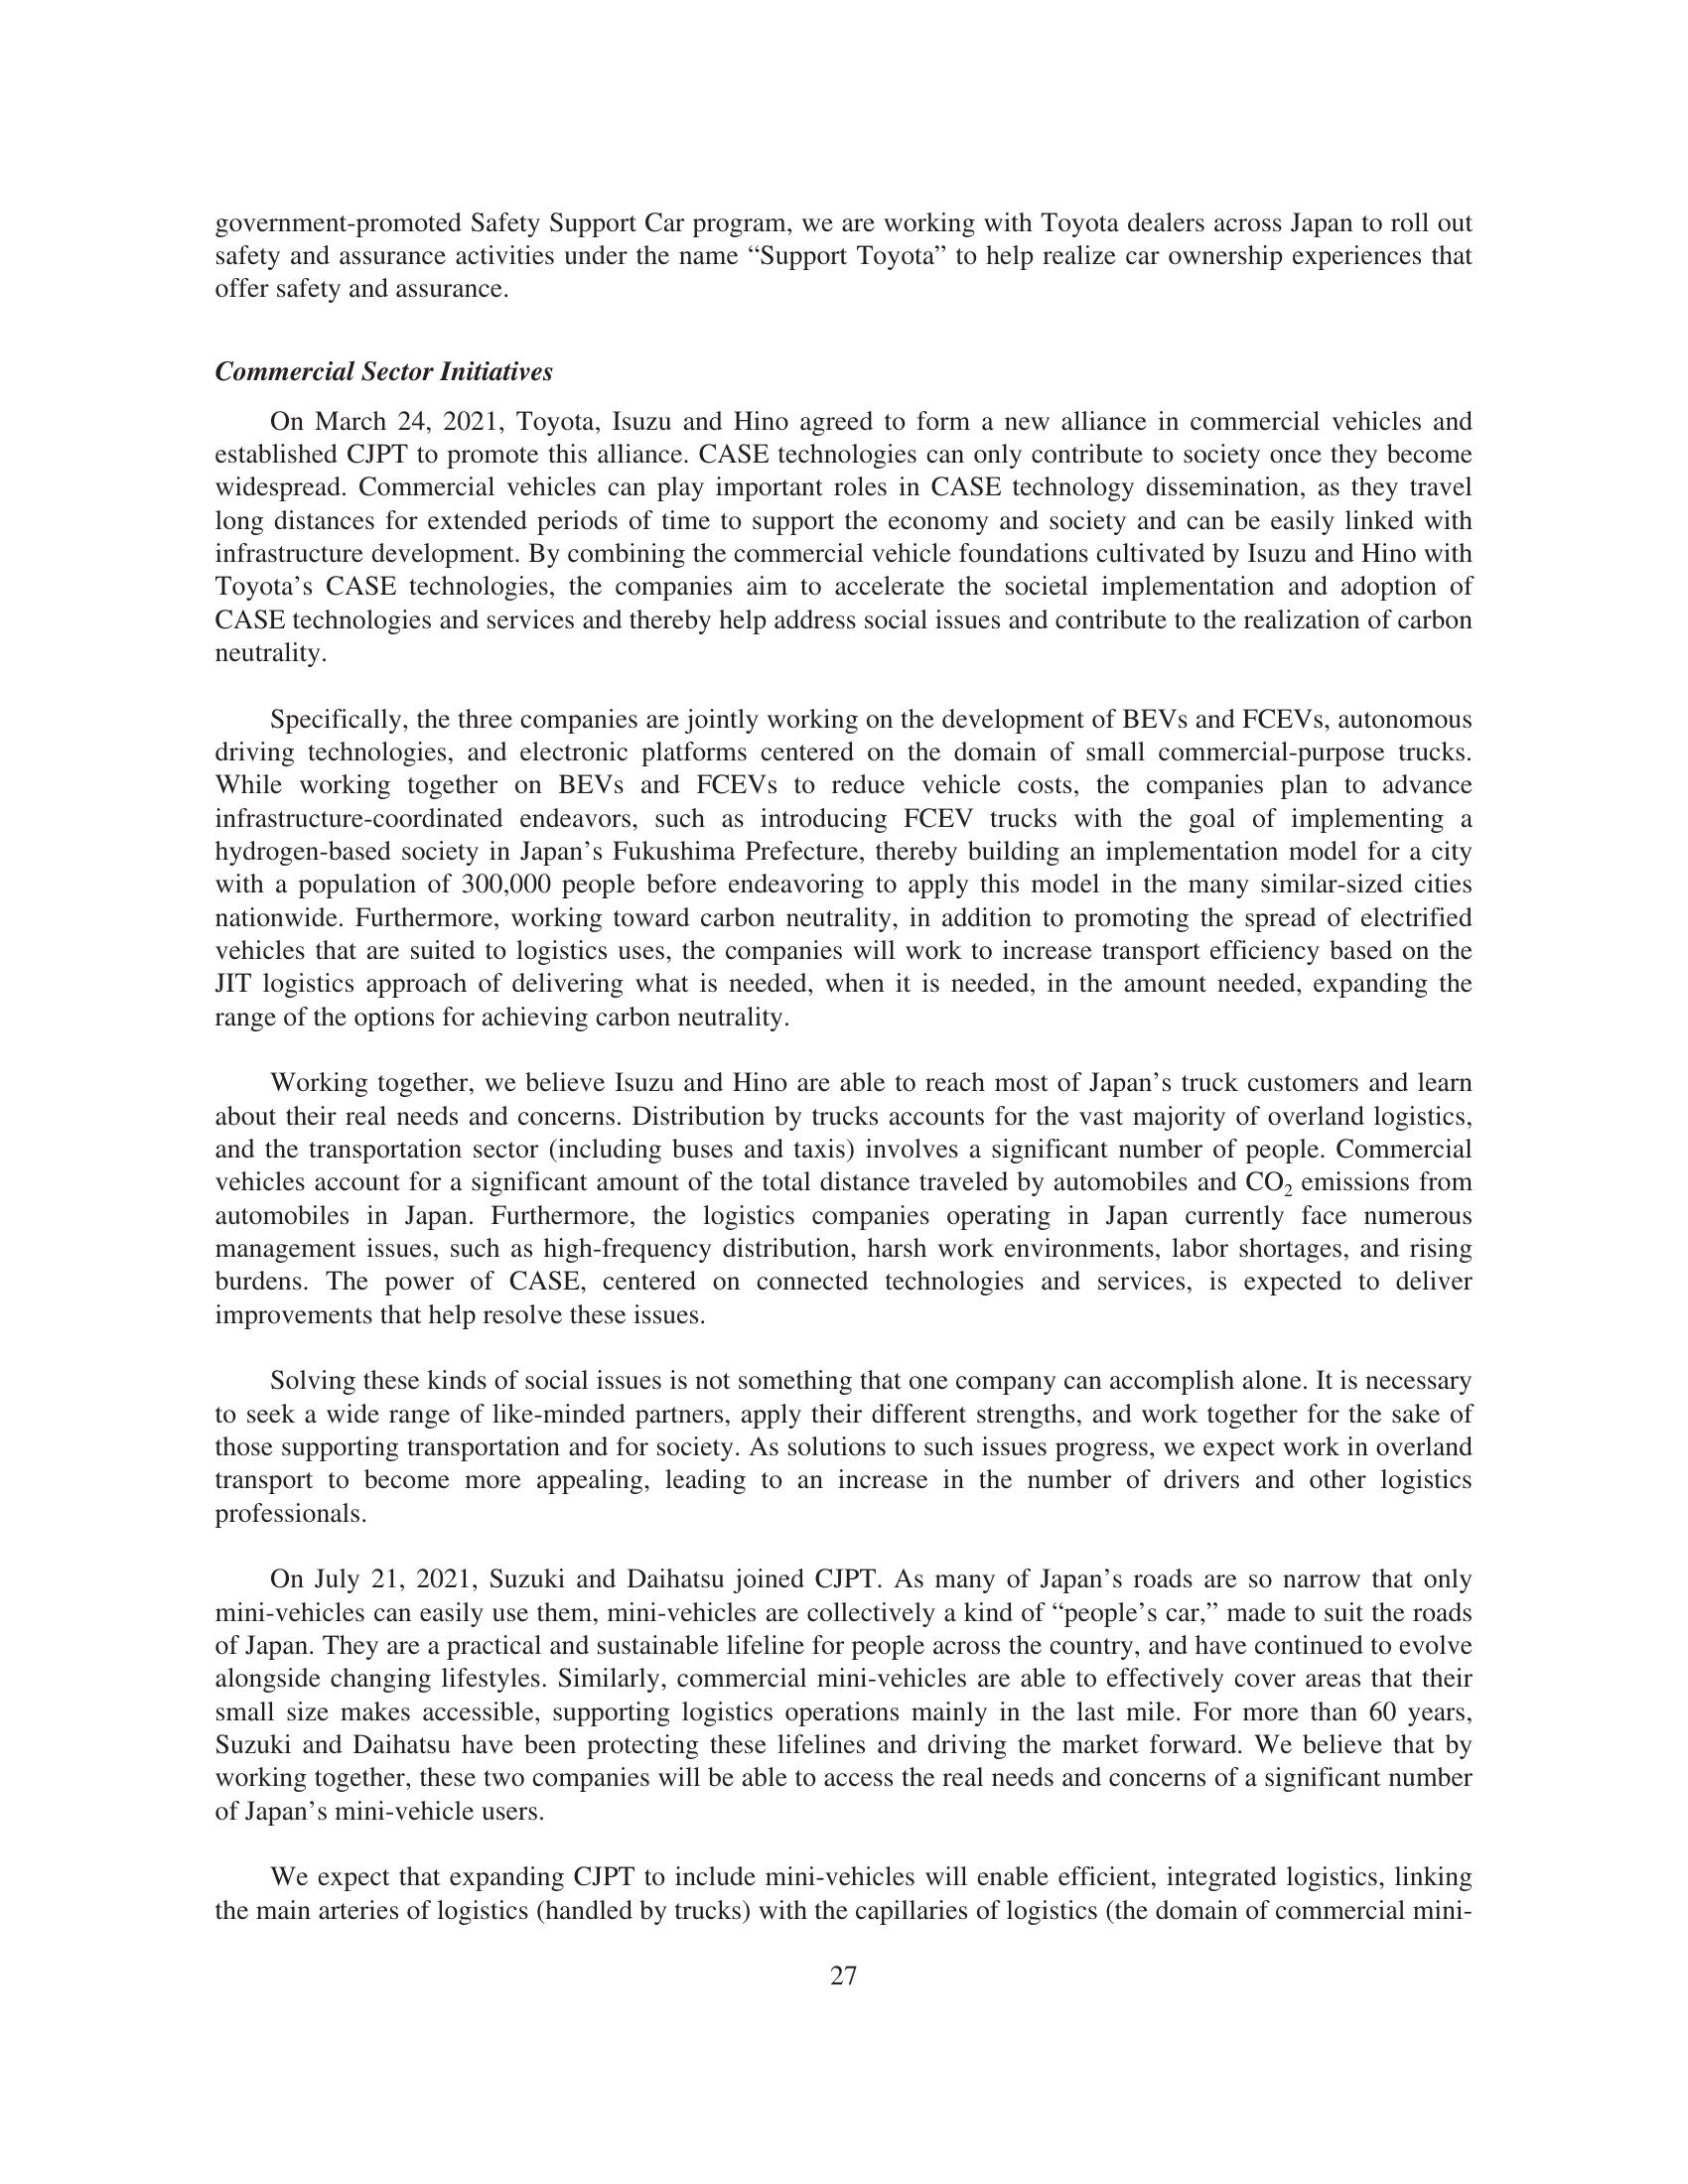Footer: (0, 1941, 1688, 2184)
Header: (0, 0, 1688, 195)
